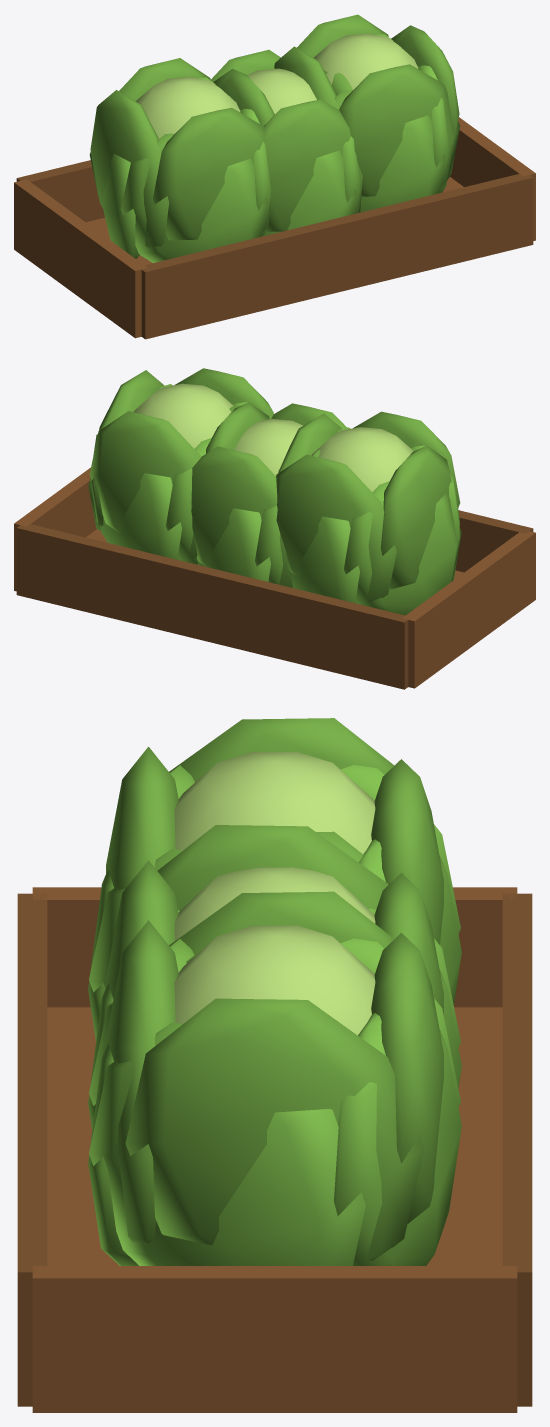
File: Veg_Lettuce.fbx
3 renders of one model, top to bottom at view 1: azimuth 30°, elevation 25°; view 2: azimuth 150°, elevation 25°; view 3: azimuth 270°, elevation 25°, orthographic. The views are drawn at different scales.
Parts seen in each view (by area): view 1: Veg_Lettuce__Stack, Veg_Lettuce; view 2: Veg_Lettuce__Stack, Veg_Lettuce; view 3: Veg_Lettuce__Stack, Veg_Lettuce.
Boxes of the visible parts, x1,y1,x2,y2 form: Veg_Lettuce__Stack: (14,14,535,339); Veg_Lettuce: (210,49,362,236); Veg_Lettuce__Stack: (14,368,535,689); Veg_Lettuce: (191,403,346,587); Veg_Lettuce__Stack: (17,718,532,1412); Veg_Lettuce: (88,831,461,1129).
Size of the model in its own units: 0.2496 by 0.1097 by 0.1388.
